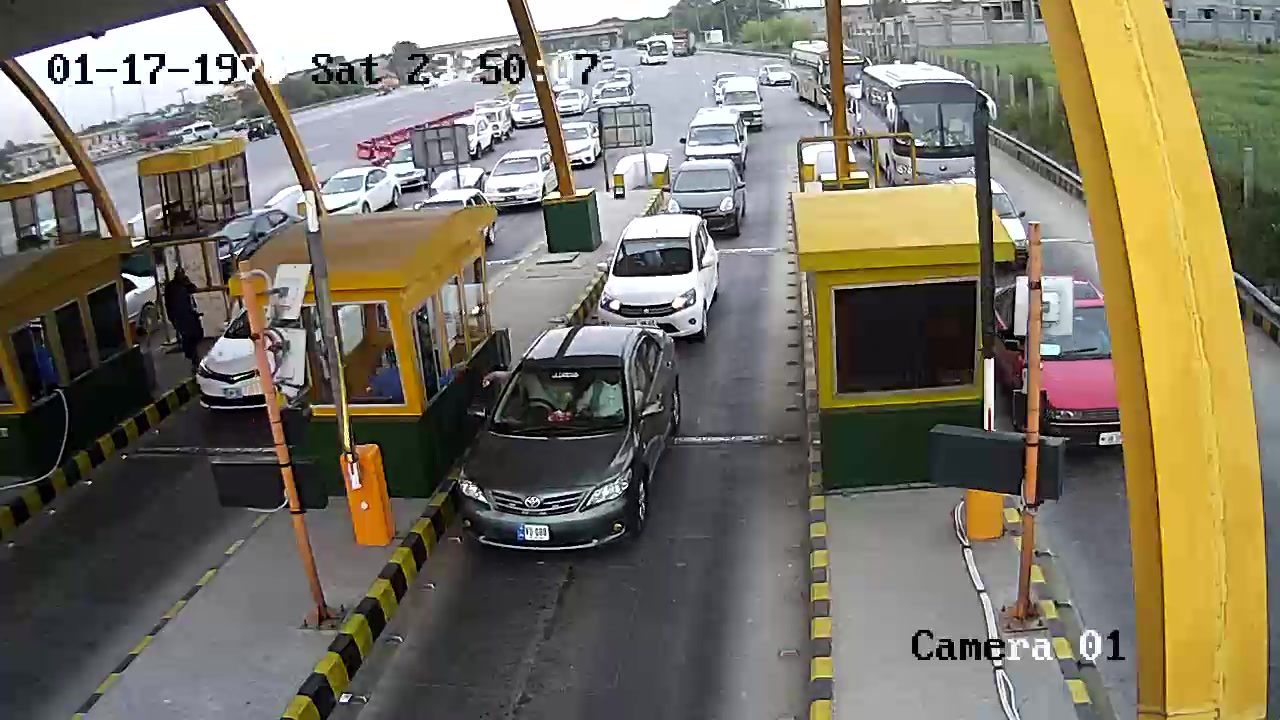F1: (450, 323, 686, 562)
